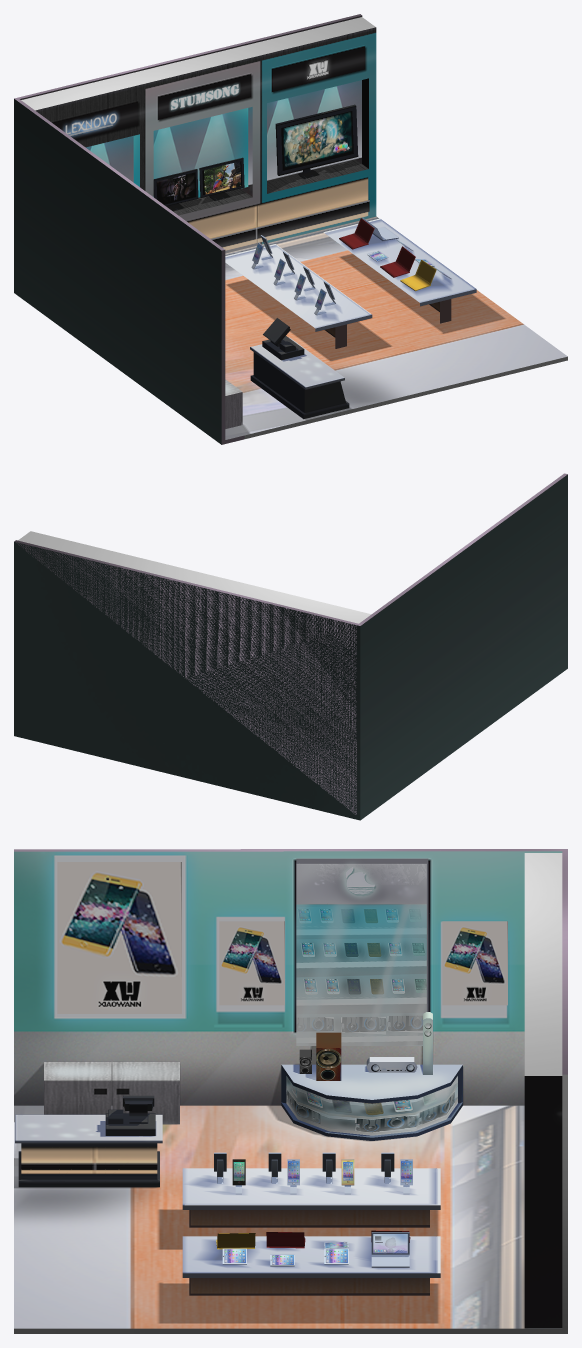
The model's file is Tx_Interior_Shop_Technology_20170704.fbx.
The picture shows the model from 3 angles, top to bottom: view 1: azimuth 30°, elevation 25°; view 2: azimuth 150°, elevation 25°; view 3: azimuth 270°, elevation 25°; orthographic projection. The views are drawn at different scales.
Parts seen in each view (by area): view 1: pPlane3, pCube33, reuse_props:table_with_cashier, pCube22, polySurface250, pCube53, polySurface248, polySurface246, cabinant, pCube72, pCube75, pCube77; view 2: pPlane3, pCube33; view 3: pPlane3, pPlane16, pPlane15, pCube33, pCylinder1, reuse_props:table_with_cashier, pCube22, pCube53, pPlane14, pPlane4, pCube34, pCube54 (+8 smaller).
Part boxes in pixels (x1,y1,x2,y2): pPlane3: (14, 14, 567, 444); pCube33: (21, 17, 376, 253); reuse_props:table_with_cashier: (250, 318, 349, 419); pCube22: (225, 244, 372, 331); polySurface250: (275, 104, 358, 175); pCube53: (323, 218, 476, 306); polySurface248: (199, 157, 244, 197); polySurface246: (153, 169, 198, 206); cabinant: (225, 379, 242, 428); pCube72: (400, 259, 436, 291); pCube75: (339, 218, 374, 249); pCube77: (380, 246, 415, 277); pPlane3: (14, 473, 567, 820); pCube33: (18, 531, 370, 623); pPlane3: (14, 849, 567, 1333); pPlane16: (296, 858, 428, 1045); pPlane15: (57, 862, 181, 1013); pCube33: (524, 853, 562, 1328); pCylinder1: (281, 1064, 462, 1140); reuse_props:table_with_cashier: (15, 1095, 162, 1187); pCube22: (182, 1168, 440, 1209); pCube53: (182, 1236, 440, 1277); pPlane14: (442, 921, 507, 1005); pPlane4: (219, 921, 284, 1005); pCube34: (189, 1210, 429, 1227); pCube54: (189, 1278, 429, 1295).
Bounding box in the file's own units: 41.6 × 22.31 × 43.19.
Materials: 2 (2 with a texture image).
